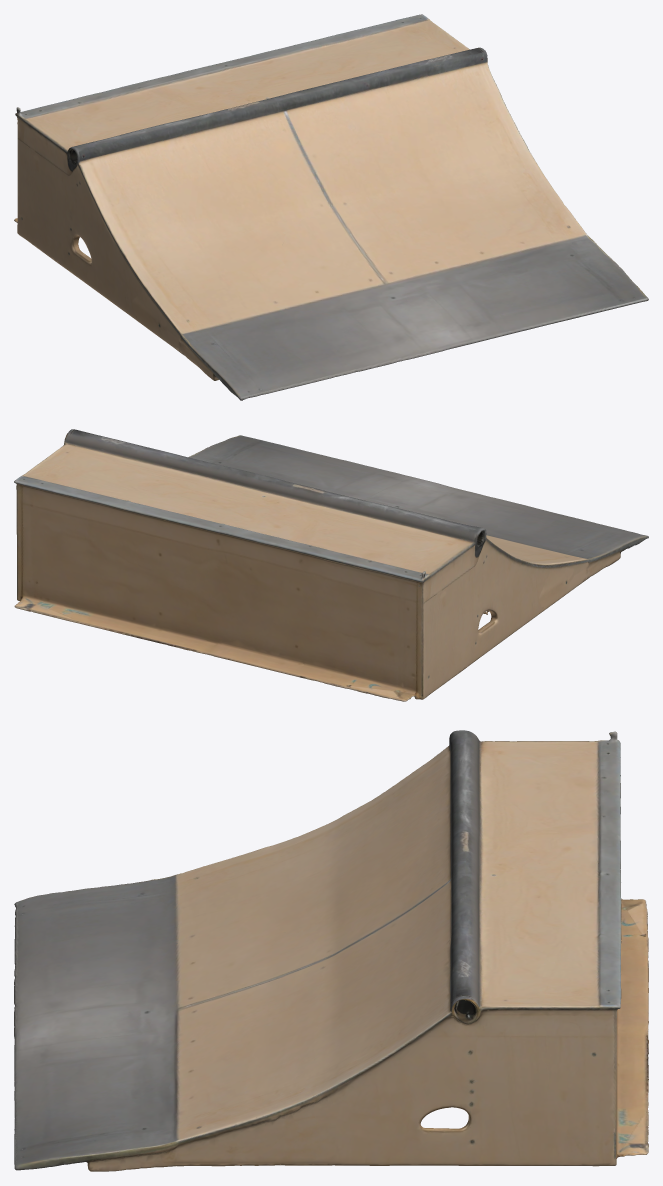
File: skate-ramp-structure.glb
3 renders of one model, top to bottom at view 1: azimuth 30°, elevation 25°; view 2: azimuth 150°, elevation 25°; view 3: azimuth 270°, elevation 25°, orthographic. The views are drawn at different scales.
Bounding box in the file's own units: 2.01 × 0.6211 × 2.
Materials: 1 (1 with a texture image).
